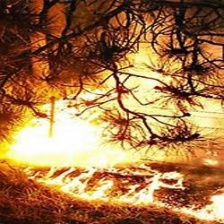fire: (5, 27, 224, 221)
